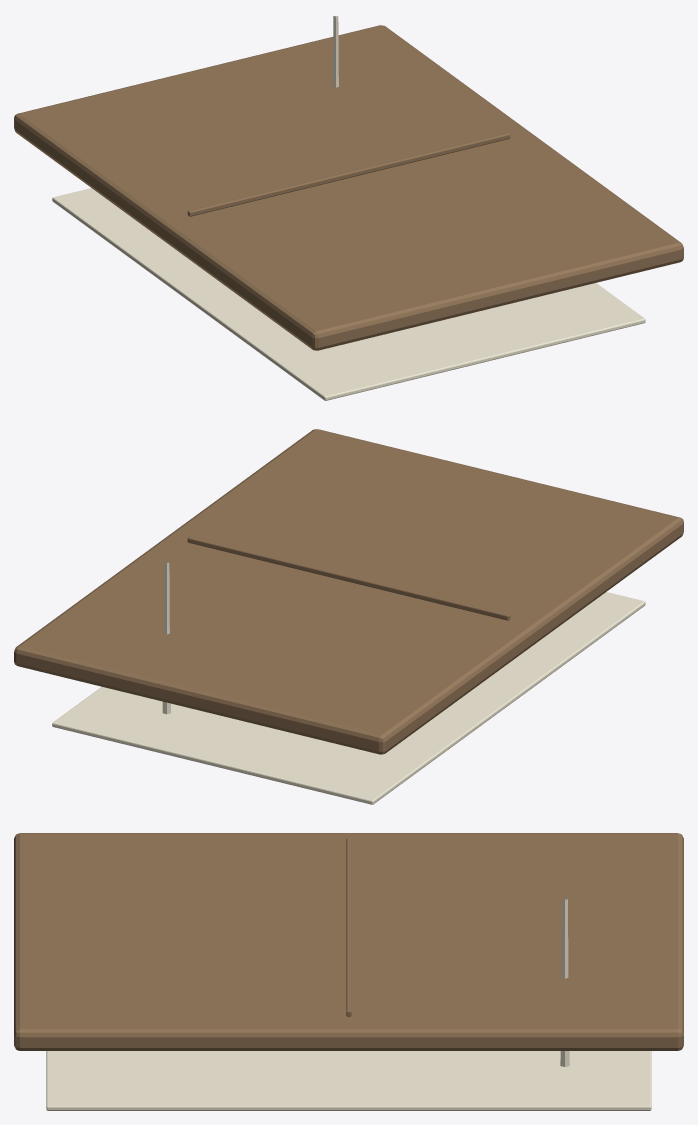
File: monastery_manuscript_in_progress.glb
The picture shows the model from 3 angles, top to bottom: view 1: azimuth 30°, elevation 25°; view 2: azimuth 150°, elevation 25°; view 3: azimuth 270°, elevation 25°; orthographic projection. The views are drawn at different scales.
Parts seen in each view (by area): view 1: world; view 2: world; view 3: world.
Boxes of the visible parts, <box> form: world: <box>14,16,683,400</box>; world: <box>14,429,683,804</box>; world: <box>14,833,683,1110</box>.
Size of the model in its own units: 1.42 by 0.5661 by 2.
